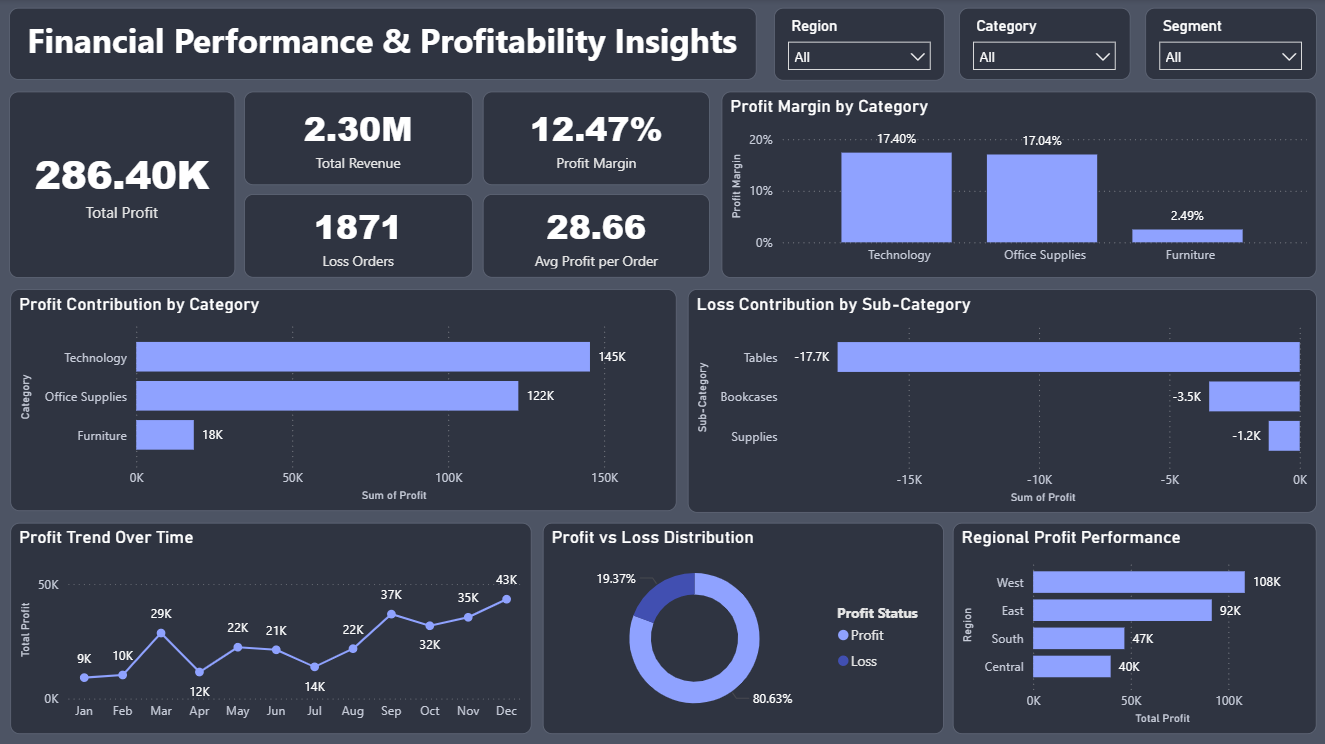

The dashboard page shown, as its layout file describes it:
{"tool":"powerbi","page":{"name":"Page 1","canvas":[1280,720],"ordinal":0},"visuals":[{"type":"card","fields":{"Values":["Sample - Superstore.Total Profit"]},"box":[9.7,89.3,218.4,179.8],"z":0},{"type":"card","fields":{"Values":["Sample - Superstore.Total Revenue"]},"box":[236.5,89.3,220.8,90.5],"z":1000},{"type":"card","fields":{"Values":["Sample - Superstore.Profit Margin"]},"box":[466.9,89.3,219.6,90.5],"z":2000},{"type":"card","fields":{"Values":["Sample - Superstore.Loss Orders"]},"box":[236.5,188.2,220.8,80.8],"z":3000},{"type":"card","fields":{"Values":["Sample - Superstore.Avg Profit per Order"]},"box":[466.9,188.2,219.6,80.8],"z":4000},{"type":"clusteredBarChart","title":"Profit Contribution by Category","fields":{"Category":["Sample - Superstore.Category"],"Y":["Sum(Sample - Superstore.Profit)"]},"box":[10.9,279.9,643,214.7],"z":5000},{"type":"clusteredBarChart","title":"Loss Contribution by Sub-Category","fields":{"Category":["Sample - Superstore.Sub-Category"],"Y":["Sum(Sample - Superstore.Profit)"]},"box":[664.7,279.9,606.8,216],"z":6000},{"type":"lineChart","title":"Profit Trend Over Time","fields":{"Category":["Sample - Superstore.Month Name"],"Y":["Sample - Superstore.Total Profit"]},"box":[10.9,505.5,503.1,203.9],"z":7000},{"type":"clusteredColumnChart","fields":{"Category":["Sample - Superstore.Category"],"Y":["Sample - Superstore.Profit Margin"]},"box":[697.3,89.3,574.3,179.8],"z":8000},{"type":"donutChart","title":"Profit vs Loss Distribution","fields":{"Category":["Sample - Superstore.Profit Status"],"Y":["CountNonNull(Sample - Superstore.Order ID)"]},"box":[524.8,505.5,387.3,203.9],"z":9000},{"type":"clusteredBarChart","title":"Regional Profit Performance","fields":{"Category":["Sample - Superstore.Region"],"Y":["Sample - Superstore.Total Profit"]},"box":[920.5,505.5,351.1,203.9],"z":10000},{"type":"textbox","box":[9.7,8.4,721.5,70],"z":11000},{"type":"slicer","fields":{"Values":["Sample - Superstore.Region"]},"box":[748,8.4,165,70],"z":12000},{"type":"slicer","fields":{"Values":["Sample - Superstore.Category"]},"box":[927,8.4,165.3,70],"z":13000},{"type":"slicer","fields":{"Values":["Sample - Superstore.Segment"]},"box":[1106.3,8.4,165.3,70],"z":14000}]}

Visuals, with their boxes in screenshot pixels (x1, y1, x2, y2), scaled from the page's 1280x720 canvas onto the 1325x744 screenshot:
card - Sample - Superstore.Total Profit: BBox(10, 92, 236, 278)
card - Sample - Superstore.Total Revenue: BBox(245, 92, 473, 186)
card - Sample - Superstore.Profit Margin: BBox(483, 92, 711, 186)
card - Sample - Superstore.Loss Orders: BBox(245, 194, 473, 278)
card - Sample - Superstore.Avg Profit per Order: BBox(483, 194, 711, 278)
"Profit Contribution by Category" clusteredBarChart: BBox(11, 289, 677, 511)
"Loss Contribution by Sub-Category" clusteredBarChart: BBox(688, 289, 1316, 512)
"Profit Trend Over Time" lineChart: BBox(11, 522, 532, 733)
clusteredColumnChart - Sample - Superstore.Category x Sample - Superstore.Profit Margin: BBox(722, 92, 1316, 278)
"Profit vs Loss Distribution" donutChart: BBox(543, 522, 944, 733)
"Regional Profit Performance" clusteredBarChart: BBox(953, 522, 1316, 733)
textbox: BBox(10, 9, 757, 81)
slicer - Sample - Superstore.Region: BBox(774, 9, 945, 81)
slicer - Sample - Superstore.Category: BBox(960, 9, 1131, 81)
slicer - Sample - Superstore.Segment: BBox(1145, 9, 1316, 81)
